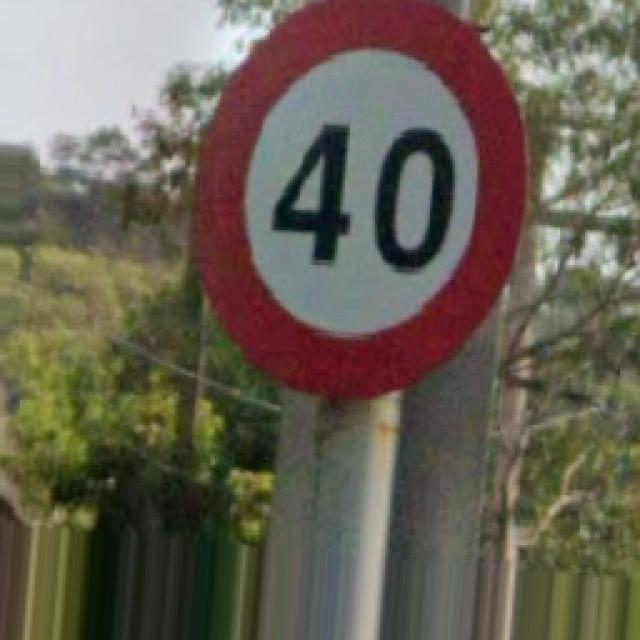Speed Limit -40-: (198, 0, 525, 395)
